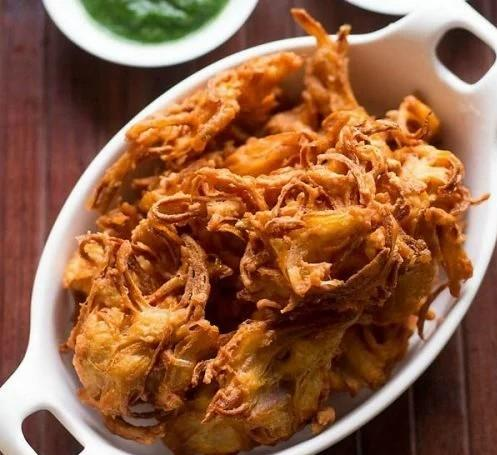GreenChutney: (82, 0, 228, 44)
OnionPakoda: (56, 6, 488, 449)
